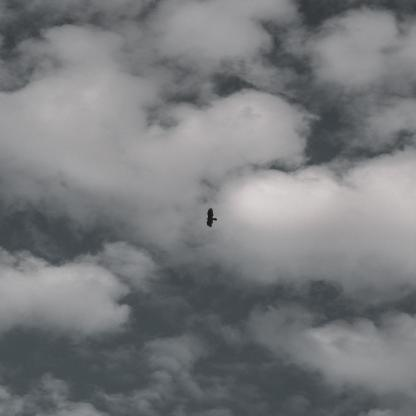bird: (204, 207, 218, 229)
